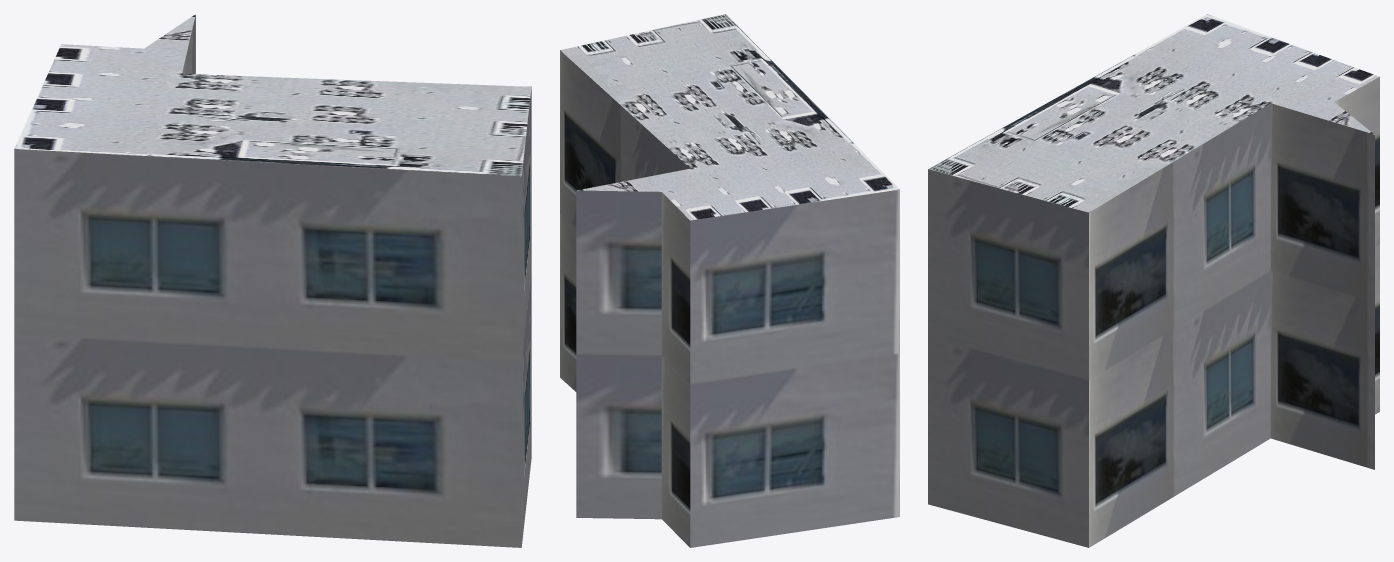
Rendered from ResTex__4286.fbx.
3 views of the same model, side by side, from view 1: azimuth 30°, elevation 25°; view 2: azimuth 150°, elevation 25°; view 3: azimuth 270°, elevation 25° (orthographic). The views are drawn at different scales.
Visible parts, largest first — view 1: CityEngineMaterial_10_m, CityEngineMaterial_8_m; view 2: CityEngineMaterial_10_m, CityEngineMaterial_8_m; view 3: CityEngineMaterial_10_m, CityEngineMaterial_8_m.
Boxes of the visible parts, box(x1,y1,x2,y2) form: CityEngineMaterial_10_m: box(14, 14, 531, 547); CityEngineMaterial_8_m: box(14, 14, 531, 176); CityEngineMaterial_10_m: box(560, 50, 899, 547); CityEngineMaterial_8_m: box(560, 14, 899, 220); CityEngineMaterial_10_m: box(928, 77, 1379, 547); CityEngineMaterial_8_m: box(928, 14, 1379, 212).
Size of the model in its own units: 7.63 by 6 by 7.33.
2 materials, 2 textured.
